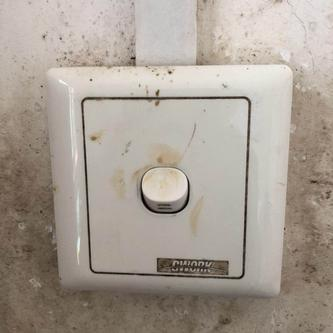switch: (135, 164, 190, 214)
